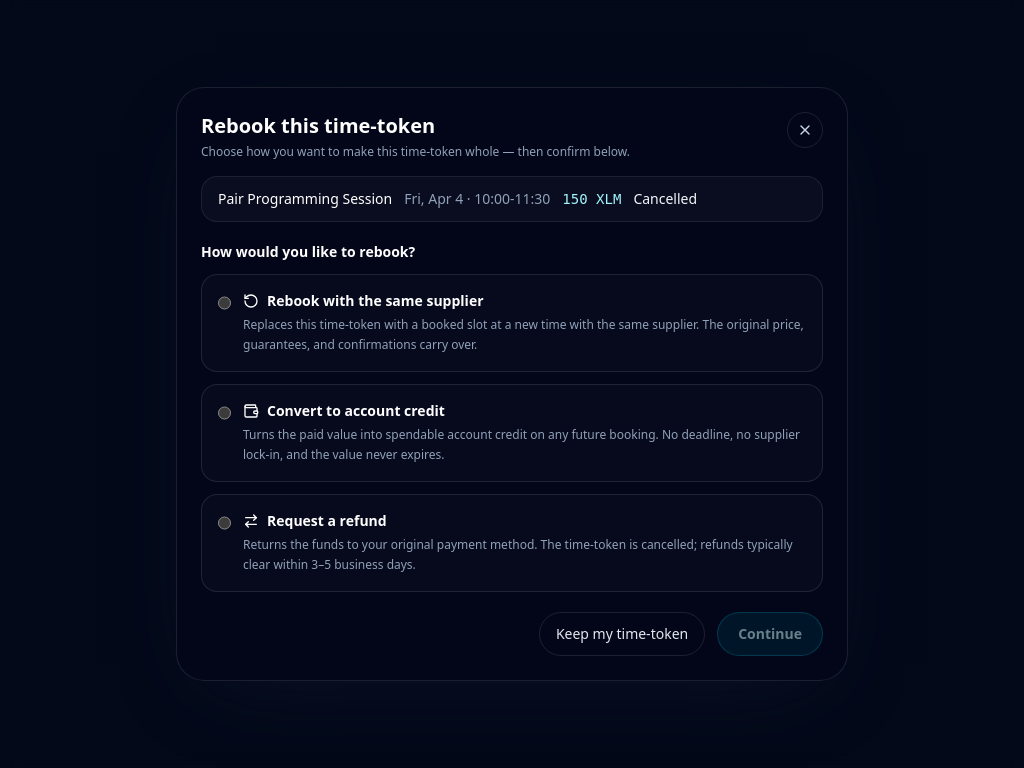
RebookingDialog › passes confirmActionLabel through to the confirm button
Step 1. Click the radio button labelled "Convert to account credit" → (224, 413), box [218,405,231,421]
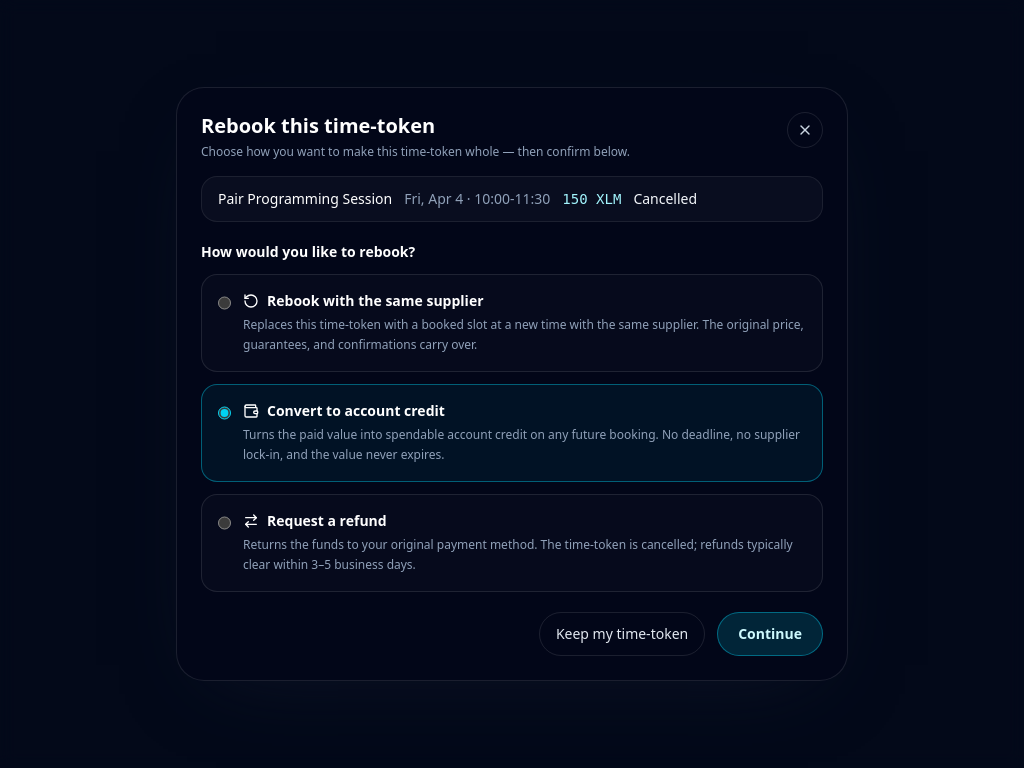
Step 2. Click the button "Continue" → (770, 634), box [717,612,823,656]
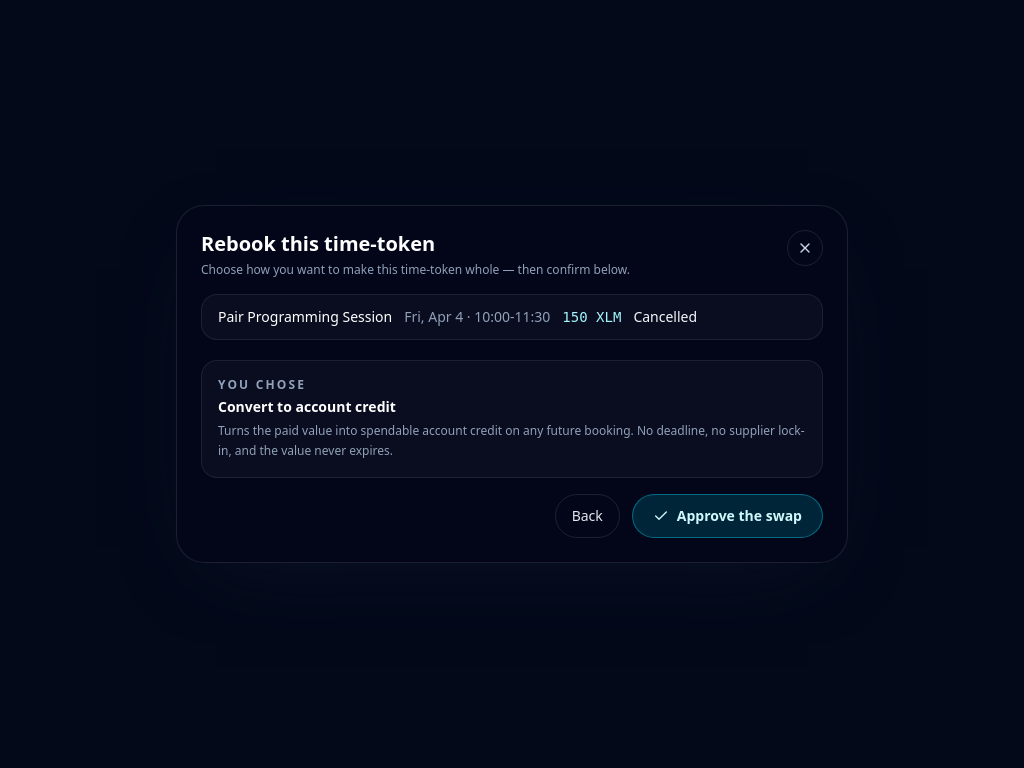
Expected: the button "Approve the swap" is shown, [632,494,823,538]
